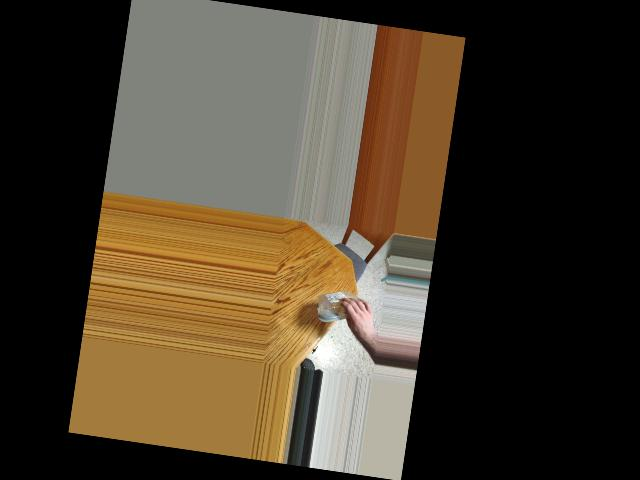cheese: (328, 290, 369, 328)
